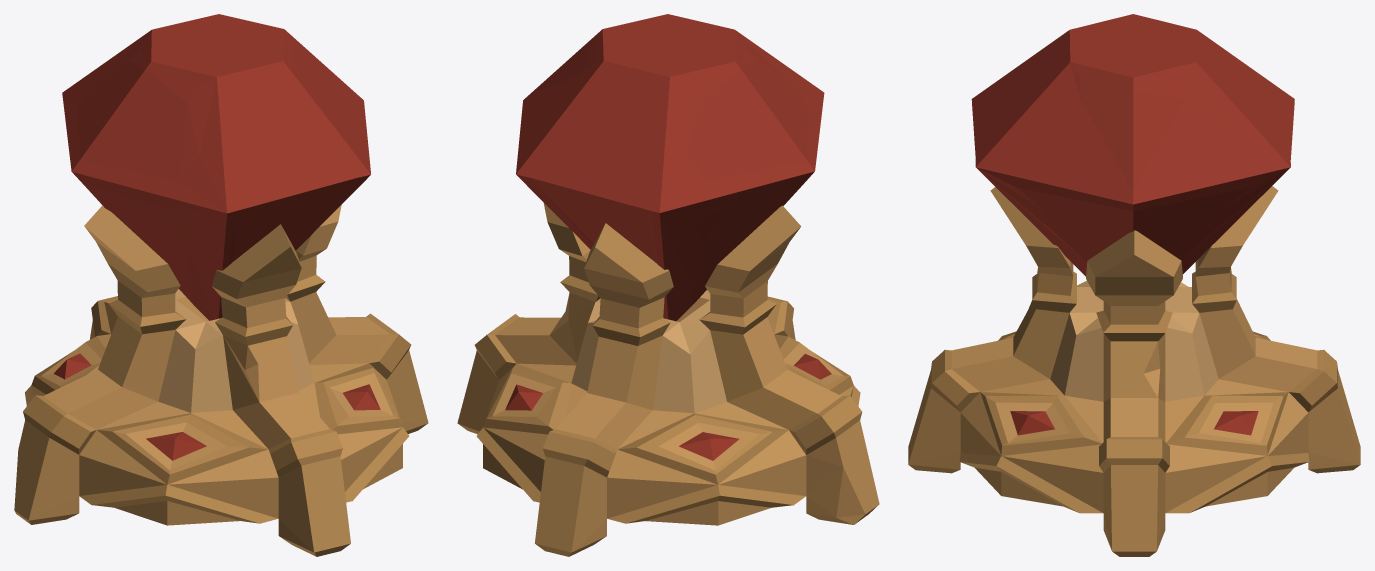
Rendered from SM_Prop_Treasure_Gem_01.fbx.
3 renders of one model, left to right at view 1: azimuth 30°, elevation 25°; view 2: azimuth 150°, elevation 25°; view 3: azimuth 270°, elevation 25°, orthographic. The views are drawn at different scales.
Parts seen in each view (by area): view 1: SM_Prop_Treasure_Gem_01; view 2: SM_Prop_Treasure_Gem_01; view 3: SM_Prop_Treasure_Gem_01.
Boxes of the visible parts, x1,y1,x2,y2 form: SM_Prop_Treasure_Gem_01: (14, 14, 428, 556); SM_Prop_Treasure_Gem_01: (457, 14, 879, 556); SM_Prop_Treasure_Gem_01: (908, 14, 1360, 556).
Bounding box in the file's own units: 14.34 × 14.65 × 14.34.
